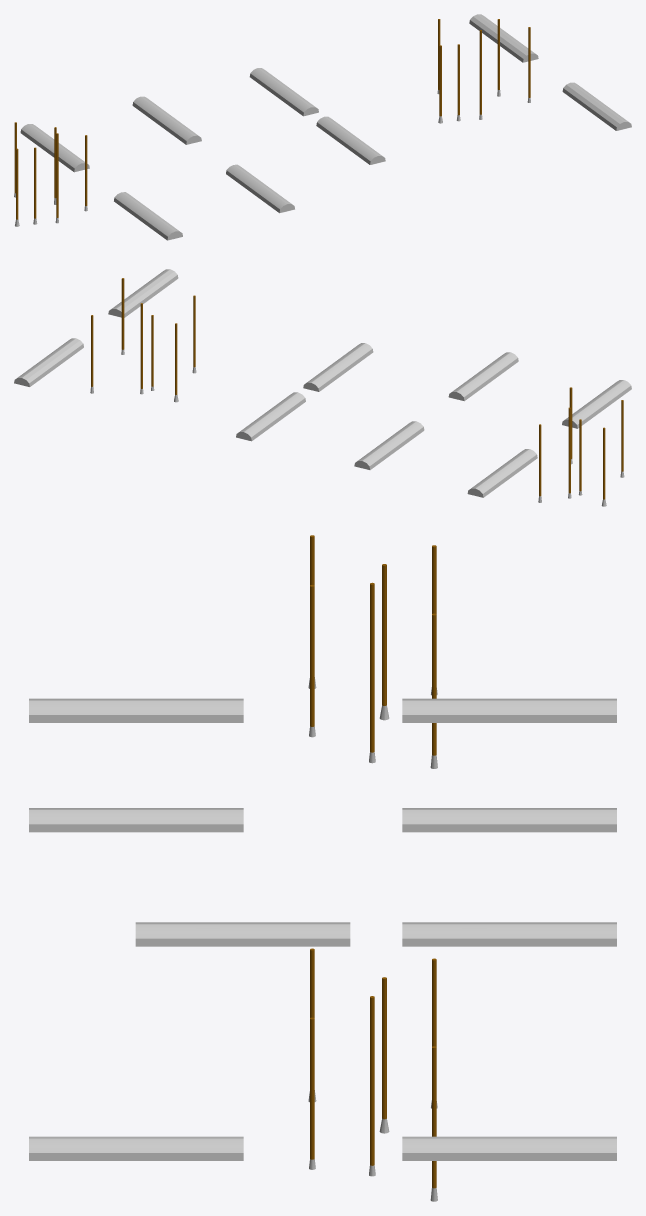
The model's file is TELLUS_arena_fluorescentLamp.FBX.
The picture shows the model from 3 angles, top to bottom: view 1: azimuth 30°, elevation 25°; view 2: azimuth 150°, elevation 25°; view 3: azimuth 270°, elevation 25°; orthographic projection. The views are drawn at different scales.
Visible parts, largest first — view 1: TELLUS_arena_fluorescentLamp; view 2: TELLUS_arena_fluorescentLamp; view 3: TELLUS_arena_fluorescentLamp.
Part boxes in pixels (x1,y1,x2,y2): TELLUS_arena_fluorescentLamp: (14, 14, 631, 240); TELLUS_arena_fluorescentLamp: (14, 269, 631, 506); TELLUS_arena_fluorescentLamp: (29, 535, 616, 1201).
Bounding box in the file's own units: 880 × 424 × 151.
